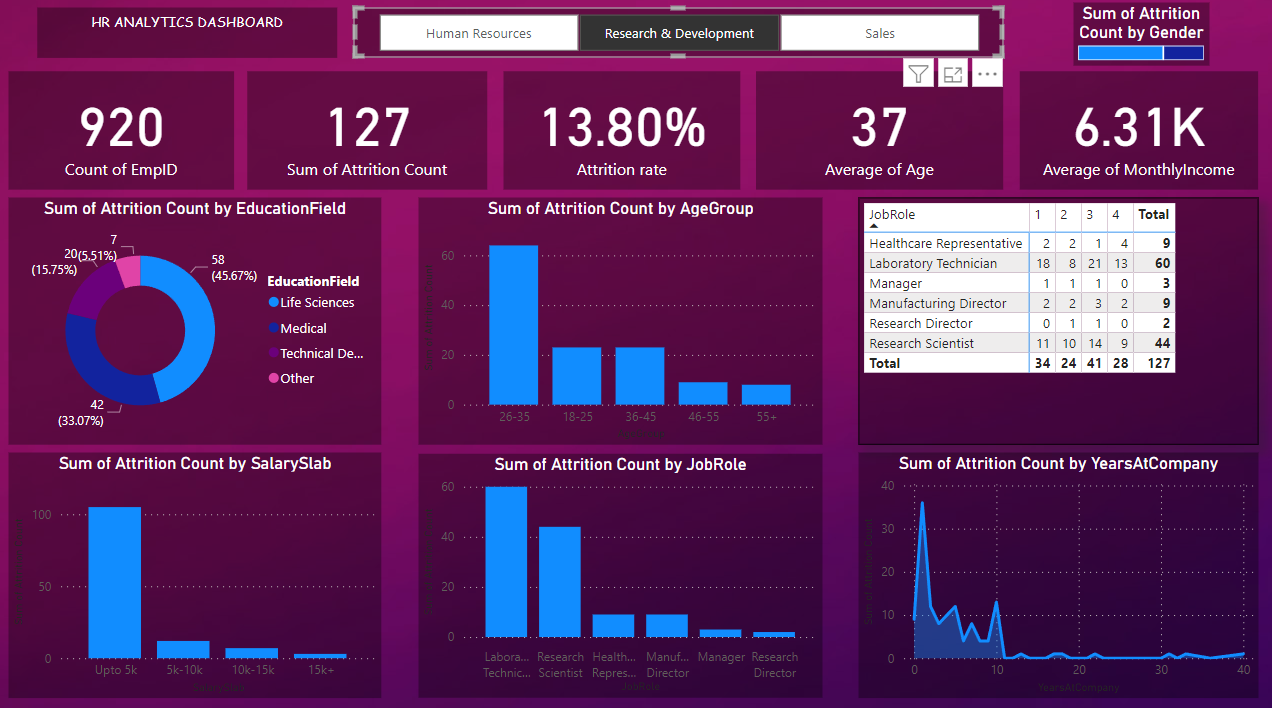

This screenshot's page, from the dashboard's own definition file:
{"tool":"powerbi","page":{"name":"Page 1","canvas":[1280,720],"ordinal":0},"visuals":[{"type":"card","fields":{"Values":["CountNonNull(HR_Analytics (1).EmpID)"]},"box":[12.9,75.7,225.7,118.6],"z":0},{"type":"card","fields":{"Values":["Sum(HR_Analytics (1).Custom)"]},"box":[251.4,75.7,240,118.6],"z":1000},{"type":"card","fields":{"Values":["Avg(HR_Analytics (1).Age)"]},"box":[760,75.7,247.1,118.6],"z":2000},{"type":"card","fields":{"Values":["HR_Analytics (1).Attrition rate"]},"box":[507.1,75.7,237.1,118.6],"z":3000},{"type":"card","fields":{"Values":["Avg(HR_Analytics (1).MonthlyIncome)"]},"box":[1024.3,75.7,238.6,118.6],"z":4000},{"type":"donutChart","fields":{"Category":["HR_Analytics (1).EducationField"],"Y":["Sum(HR_Analytics (1).Attrition Count)"]},"box":[12.9,202.9,372.9,247.1],"z":5000},{"type":"columnChart","fields":{"Y":["Sum(HR_Analytics (1).Attrition Count)"],"Category":["HR_Analytics (1).SalarySlab"]},"box":[12.9,457.1,372.9,245.7],"z":6000},{"type":"pivotTable","fields":{"Rows":["HR_Analytics (1).JobRole"],"Columns":["HR_Analytics (1).JobSatisfaction"],"Values":["Sum(HR_Analytics (1).Attrition Count)"]},"box":[862.9,202.9,400,247.1],"z":7000},{"type":"columnChart","fields":{"Category":["HR_Analytics (1).AgeGroup"],"Y":["Sum(HR_Analytics (1).Attrition Count)"]},"box":[422.9,202.9,404.3,247.1],"z":8000},{"type":"areaChart","fields":{"Category":["HR_Analytics (1).YearsAtCompany"],"Y":["Sum(HR_Analytics (1).Attrition Count)"]},"box":[862.9,457.1,400,245.7],"z":9000},{"type":"columnChart","fields":{"Category":["HR_Analytics (1).JobRole"],"Y":["Sum(HR_Analytics (1).Attrition Count)"]},"box":[422.9,458.6,404.3,244.3],"z":10000},{"type":"treemap","fields":{"Values":["Sum(HR_Analytics (1).Attrition Count)"],"Group":["HR_Analytics (1).Gender"]},"box":[1077.1,7.1,135.7,62.9],"z":12000},{"type":"slicer","fields":{"Values":["HR_Analytics (1).Department"]},"box":[357.1,12.9,650,50],"z":13000},{"type":"textbox","box":[41.4,12.9,300,50],"z":14000}]}

Visuals, with their boxes in screenshot pixels (x1, y1, x2, y2), scaled from the page's 1280x720 canvas onto the 1272x708 screenshot:
card - CountNonNull(HR_Analytics (1).EmpID): (x1=13, y1=74, x2=237, y2=191)
card - Sum(HR_Analytics (1).Custom): (x1=250, y1=74, x2=488, y2=191)
card - Avg(HR_Analytics (1).Age): (x1=755, y1=74, x2=1001, y2=191)
card - HR_Analytics (1).Attrition rate: (x1=504, y1=74, x2=740, y2=191)
card - Avg(HR_Analytics (1).MonthlyIncome): (x1=1018, y1=74, x2=1255, y2=191)
donutChart - HR_Analytics (1).EducationField x Sum(HR_Analytics (1).Attrition Count): (x1=13, y1=200, x2=383, y2=442)
columnChart - Sum(HR_Analytics (1).Attrition Count) x HR_Analytics (1).SalarySlab: (x1=13, y1=449, x2=383, y2=691)
pivotTable - HR_Analytics (1).JobRole x HR_Analytics (1).JobSatisfaction: (x1=858, y1=200, x2=1255, y2=442)
columnChart - HR_Analytics (1).AgeGroup x Sum(HR_Analytics (1).Attrition Count): (x1=420, y1=200, x2=822, y2=442)
areaChart - HR_Analytics (1).YearsAtCompany x Sum(HR_Analytics (1).Attrition Count): (x1=858, y1=449, x2=1255, y2=691)
columnChart - HR_Analytics (1).JobRole x Sum(HR_Analytics (1).Attrition Count): (x1=420, y1=451, x2=822, y2=691)
treemap - Sum(HR_Analytics (1).Attrition Count) x HR_Analytics (1).Gender: (x1=1070, y1=7, x2=1205, y2=69)
slicer - HR_Analytics (1).Department: (x1=355, y1=13, x2=1001, y2=62)
textbox: (x1=41, y1=13, x2=339, y2=62)
